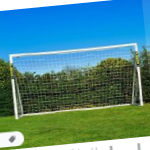goals: (7, 41, 145, 121)
